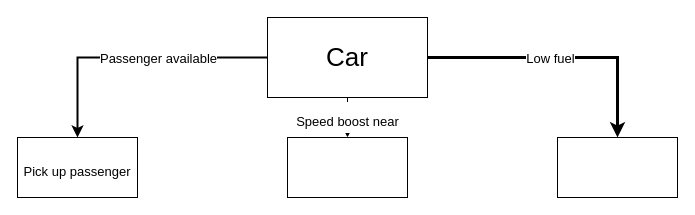
The diagram is 695 pixels wide and 215 high, and some of its shapes have lost their labels. The shapes that lost their labels are listed below. From the top down, each one's centre as x and y in pixels, then its label:
At pixel 347 167: "Pick up speed boost".
At pixel 617 167: "Refuel".
